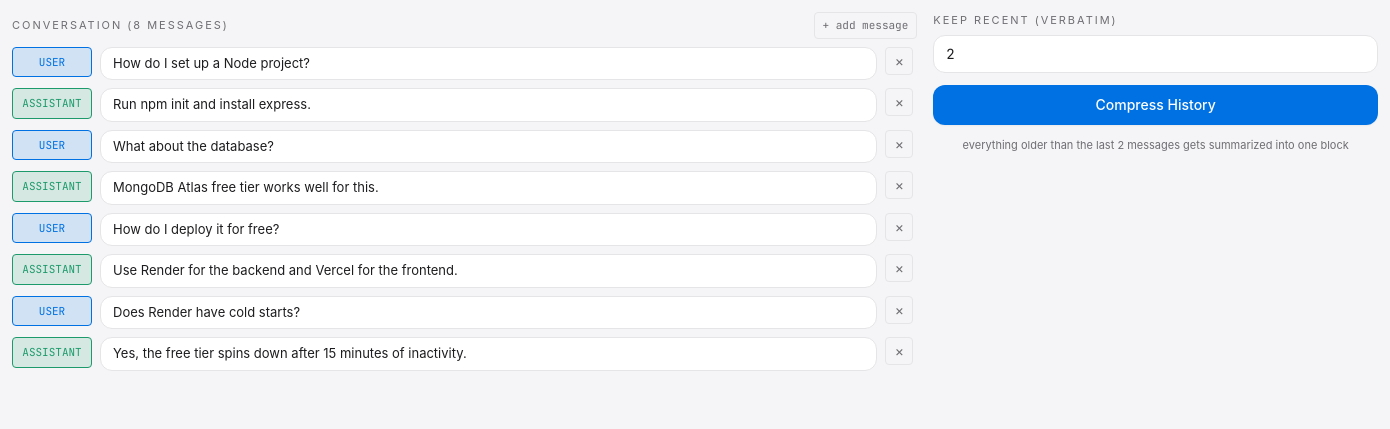
Test case: ChatCompressor › + add message adds a new row
Click the button "+ add message": (865, 25) left=814, top=12, right=917, bottom=38
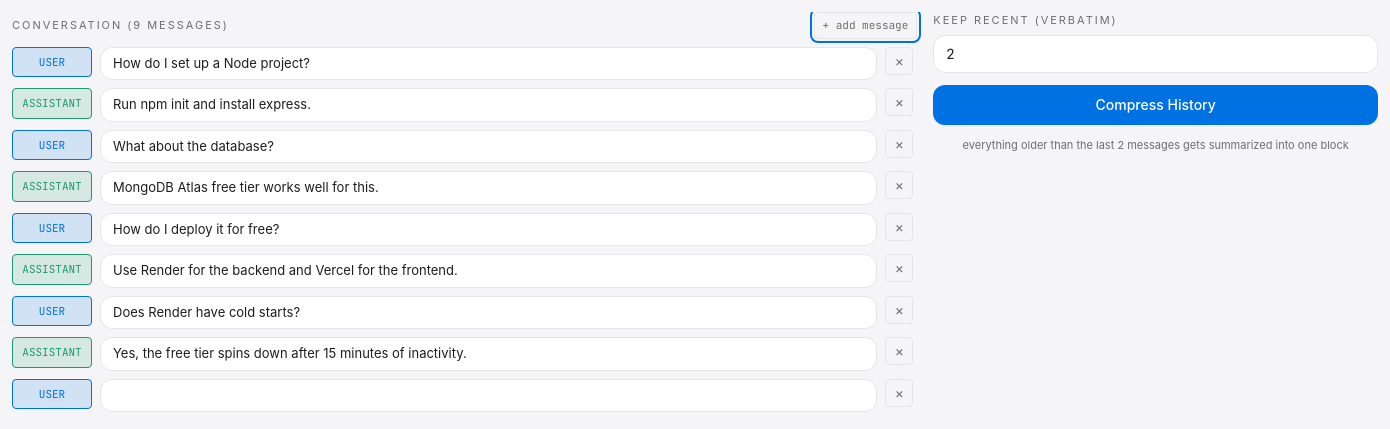
expect the text "Conversation (9 messages)" is shown: met, box left=12, top=17, right=229, bottom=34
